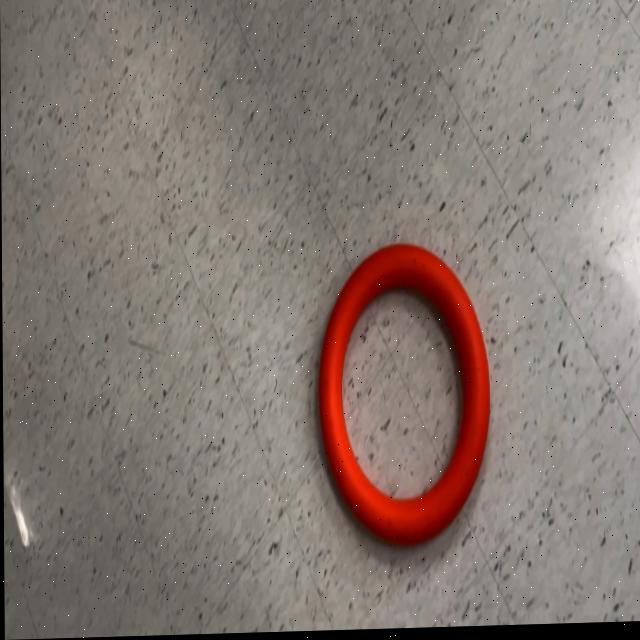note: (316, 244, 492, 555)
